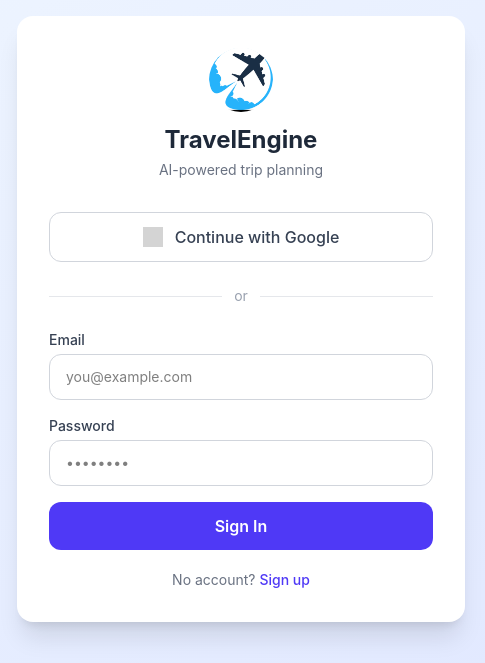
Test: LoginPage › disables the submit button while loading
This screenshot has width=485, height=663.
Type "a@b.com" into the field labelled "Email".
click(241, 377); type("a@b.com")  # box [49,354,433,400]
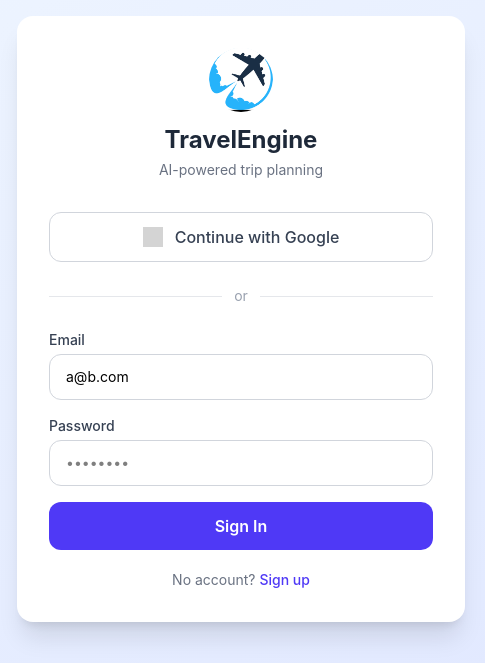
Type "pass123" into the password field labelled "Password".
click(241, 463); type("pass123")  # box [49,440,433,486]
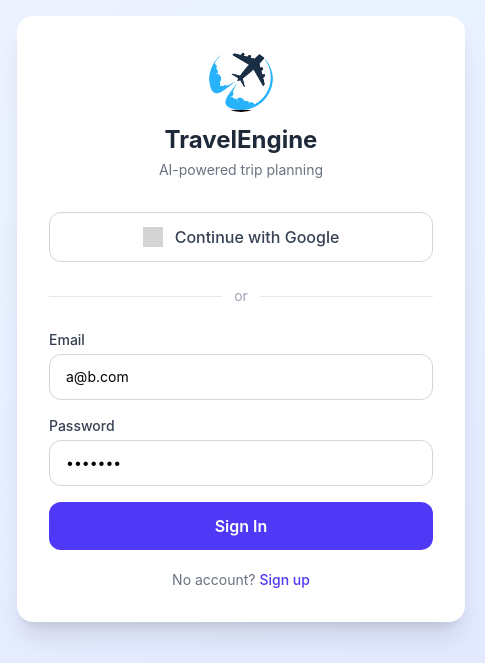
Click the button "Sign In".
click(241, 526)  # box [49,502,433,550]
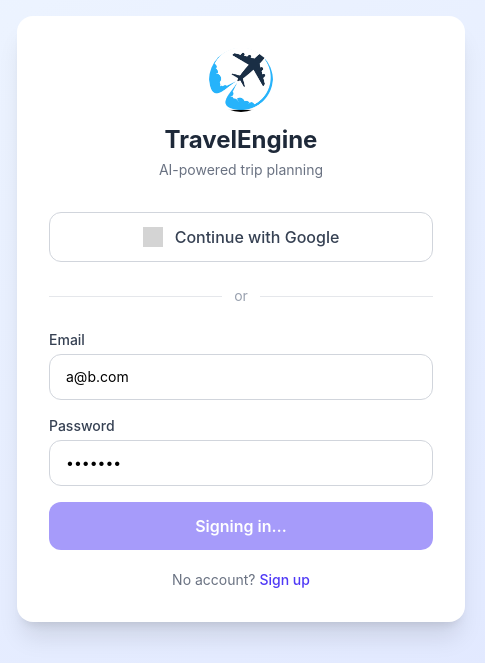
Result: the button "Signing in…" is disabled at [49,502,433,550]
